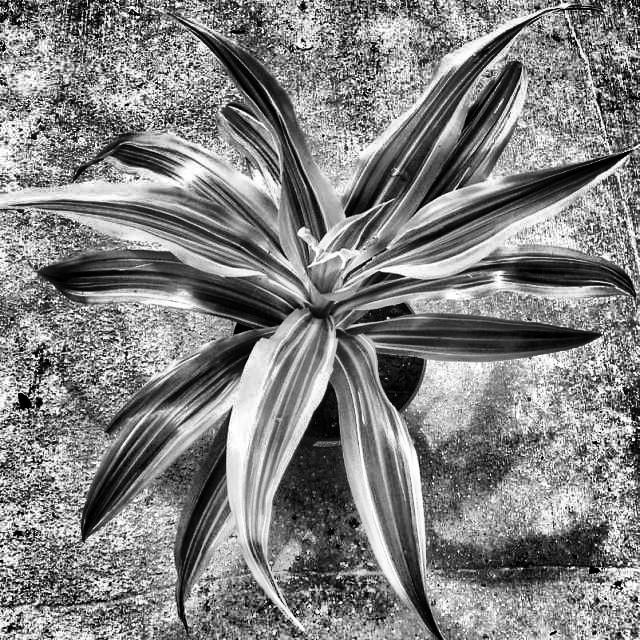plants: (70, 104, 550, 506)
